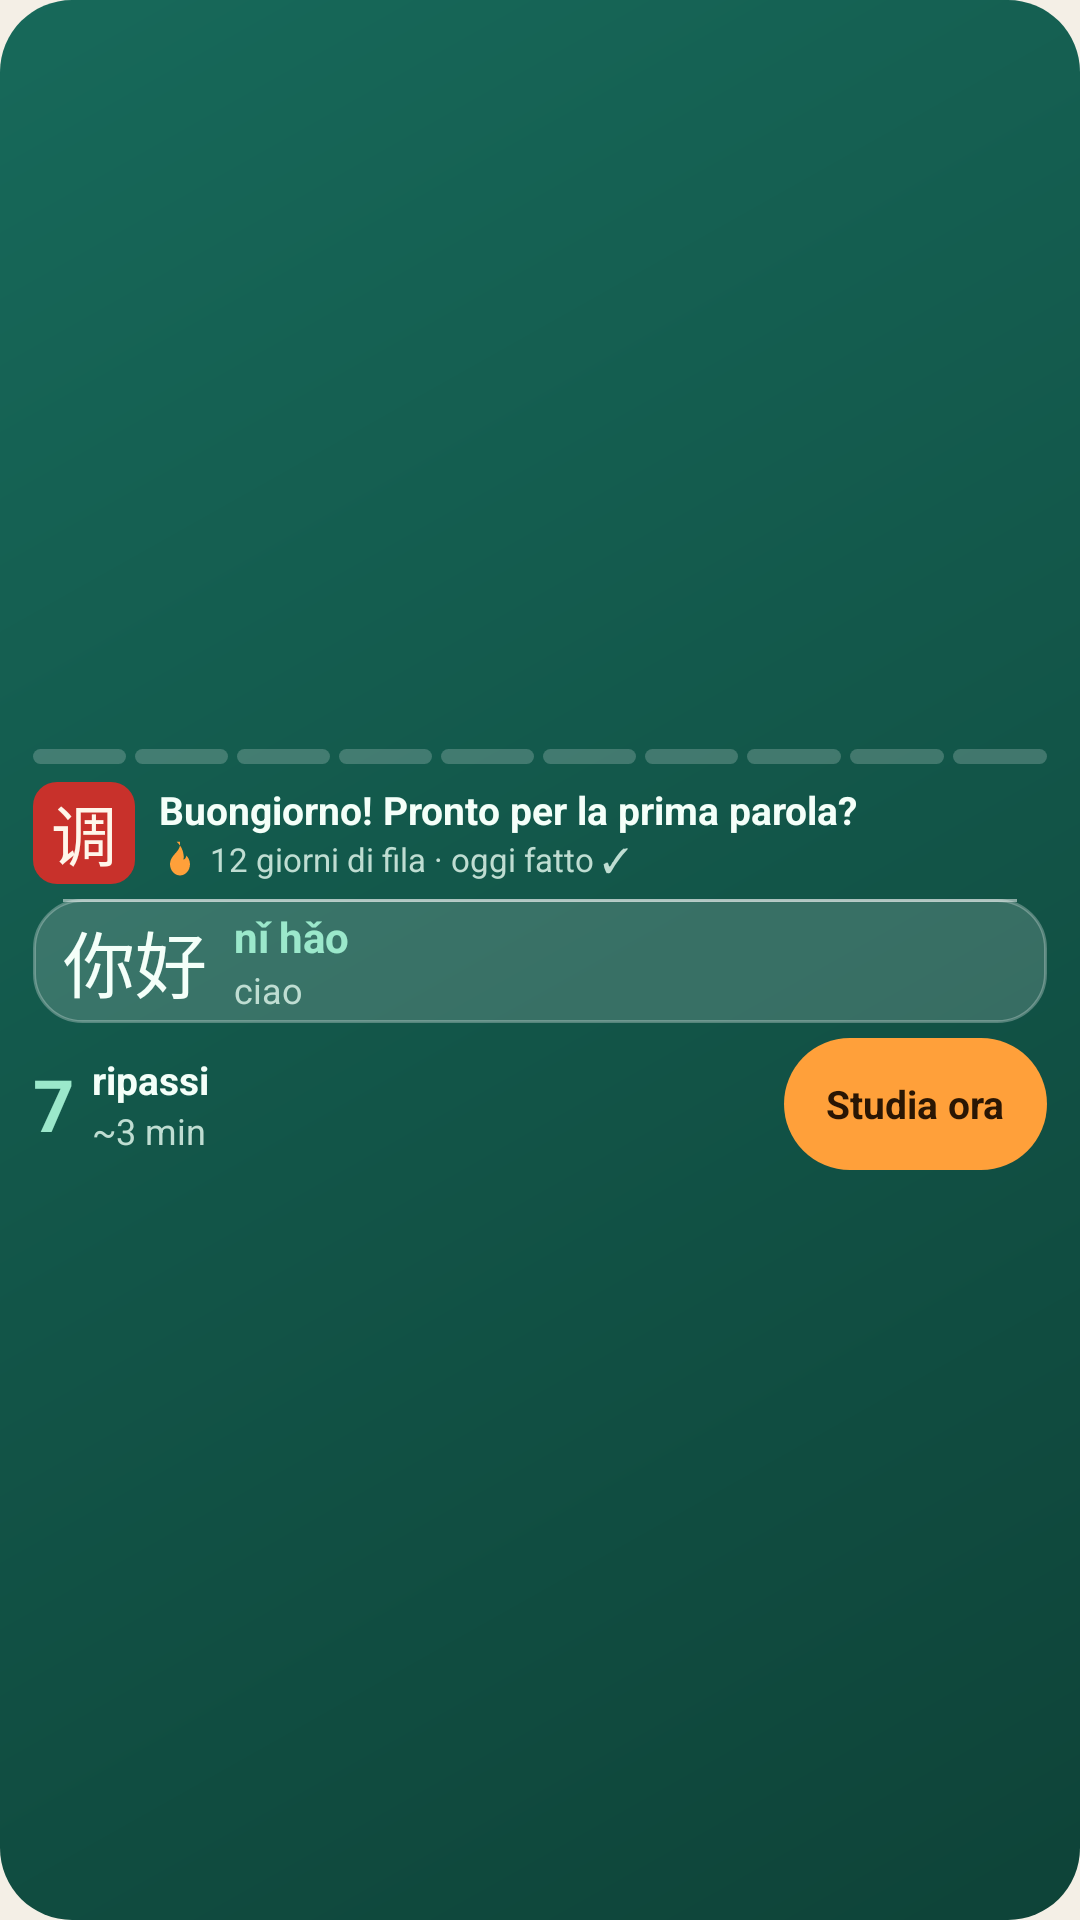

Point at icon controls on the screen. Image size 1080w x 1920h, points as (x,y).
flame: (180,858)
